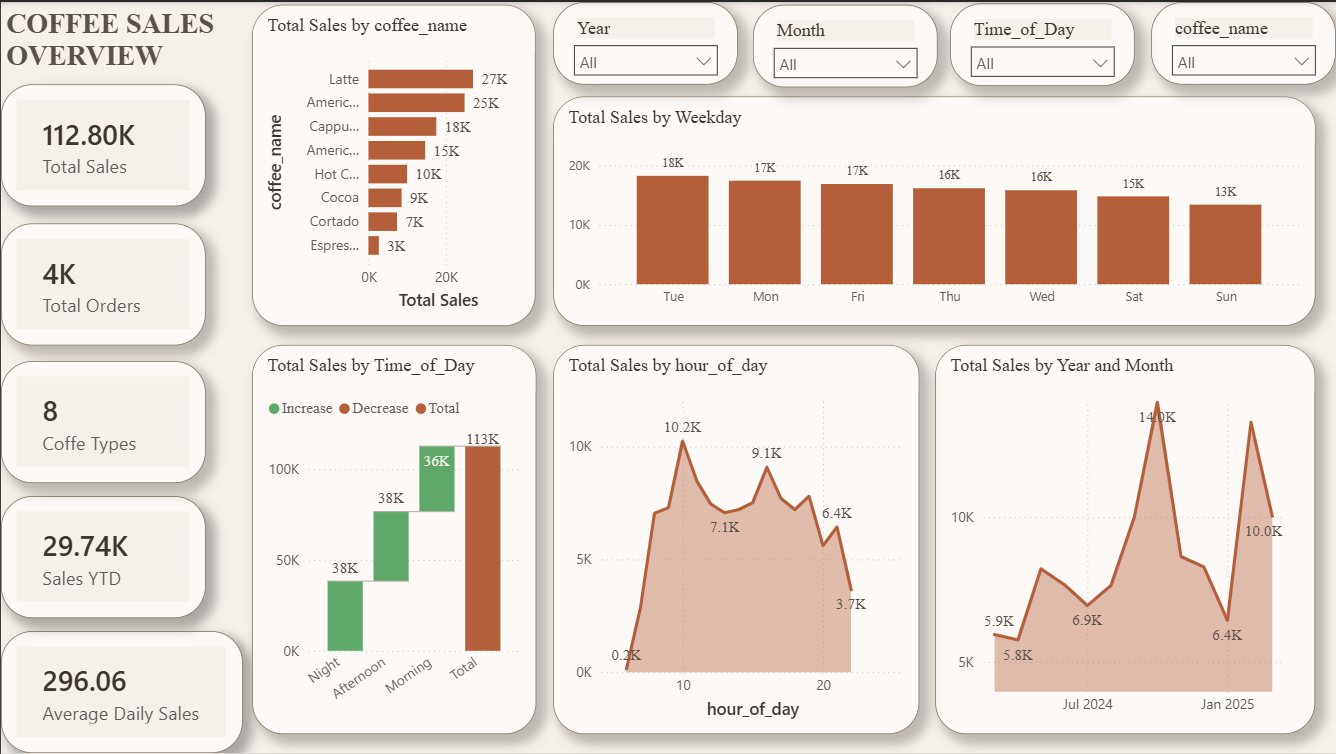

What the dashboard file says about the page in this screenshot:
{"tool":"powerbi","page":{"name":"Executive Overview","canvas":[1280,720],"ordinal":0},"visuals":[{"type":"cardVisual","fields":{"Data":["Coffee_shop sales.Average Daily Sales"]},"box":[0,602.6,231.6,117.1],"z":0},{"type":"cardVisual","fields":{"Data":["Coffee_shop sales.Total Sales"]},"box":[0,78.9,196.1,117.1],"z":1000},{"type":"cardVisual","fields":{"Data":["Coffee_shop sales.Sales YTD"]},"box":[0,473.7,196.1,117.1],"z":2000},{"type":"textbox","box":[0,0,231.6,78.9],"z":3000},{"type":"cardVisual","fields":{"Data":["Coffee_shop sales.Total Orders"]},"box":[0,211.8,196.1,117.1],"z":4000},{"type":"cardVisual","fields":{"Data":["Coffee_shop sales.Coffe Types"]},"box":[0,344.7,196.1,117.1],"z":5000},{"type":"areaChart","fields":{"Category":["Coffee_shop sales.Date.Variation.Date Hierarchy.Year","Coffee_shop sales.Date.Variation.Date Hierarchy.Month"],"Y":["Coffee_shop sales.Total Sales"]},"box":[896.1,328.9,364.5,373.7],"z":6000},{"type":"waterfallChart","fields":{"Category":["Coffee_shop sales.Time_of_Day"],"Y":["Coffee_shop sales.Total Sales"]},"box":[240.8,328.9,272.4,373.7],"z":7000},{"type":"columnChart","fields":{"Category":["Coffee_shop sales.Weekday"],"Y":["Coffee_shop sales.Total Sales"]},"box":[529.5,90.6,731.4,220.1],"z":8000},{"type":"areaChart","fields":{"Category":["Coffee_shop sales.hour_of_day"],"Y":["Coffee_shop sales.Total Sales"]},"box":[528.9,328.9,351.3,373.7],"z":9000},{"type":"slicer","fields":{"Values":["Coffee_shop sales.Year"]},"box":[529.5,0,177.4,79],"z":10000},{"type":"slicer","fields":{"Values":["Coffee_shop sales.Month"]},"box":[721.1,2.6,177.4,79],"z":11000},{"type":"slicer","fields":{"Values":["Coffee_shop sales.coffee_name"]},"box":[1103,0,177.4,79],"z":12000},{"type":"slicer","fields":{"Values":["Coffee_shop sales.Time_of_Day"]},"box":[910.1,1.3,177.4,79],"z":13000},{"type":"barChart","fields":{"Category":["Coffee_shop sales.coffee_name"],"Y":["Coffee_shop sales.Total Sales"]},"box":[240.8,2.6,271.9,308.1],"z":14000}]}

Visuals, with their boxes in screenshot pixels (x1, y1, x2, y2), scaled from the page's 1280x720 canvas onto the 1336x754 screenshot:
cardVisual - Coffee_shop sales.Average Daily Sales: [0,631,242,753]
cardVisual - Coffee_shop sales.Total Sales: [0,83,205,205]
cardVisual - Coffee_shop sales.Sales YTD: [0,496,205,619]
textbox: [0,0,242,83]
cardVisual - Coffee_shop sales.Total Orders: [0,222,205,344]
cardVisual - Coffee_shop sales.Coffe Types: [0,361,205,484]
areaChart - Coffee_shop sales.Date.Variation.Date Hierarchy.Year x Coffee_shop sales.Date.Variation.Date Hierarchy.Month: [935,344,1316,736]
waterfallChart - Coffee_shop sales.Time_of_Day x Coffee_shop sales.Total Sales: [251,344,536,736]
columnChart - Coffee_shop sales.Weekday x Coffee_shop sales.Total Sales: [553,95,1316,325]
areaChart - Coffee_shop sales.hour_of_day x Coffee_shop sales.Total Sales: [552,344,919,736]
slicer - Coffee_shop sales.Year: [553,0,738,83]
slicer - Coffee_shop sales.Month: [753,3,938,85]
slicer - Coffee_shop sales.coffee_name: [1151,0,1335,83]
slicer - Coffee_shop sales.Time_of_Day: [950,1,1135,84]
barChart - Coffee_shop sales.coffee_name x Coffee_shop sales.Total Sales: [251,3,535,325]
